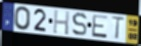2: (33, 8, 47, 33)
E: (91, 14, 109, 39)
H: (52, 9, 71, 36)
O: (13, 6, 32, 32)
S: (71, 12, 88, 37)
T: (111, 16, 126, 41)
